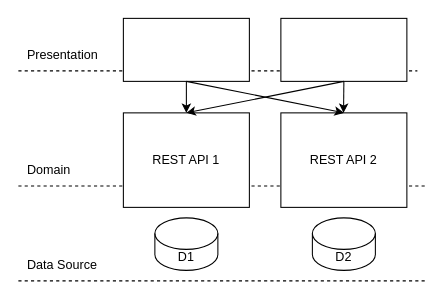
The diagram is 447 pixels wide and 300 high, and some of its shapes have lost their labels. Each missing label, with the centre of its shape:
Mobile App: point (343, 49)
Web App: point (185, 49)
